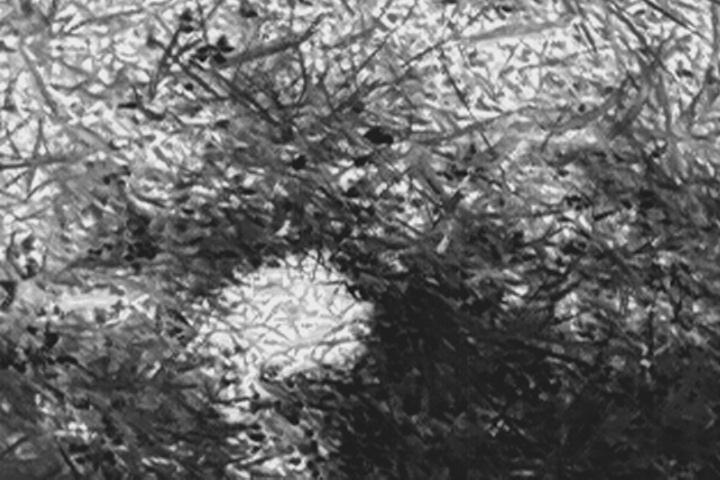landmine: (231, 251, 369, 377)
